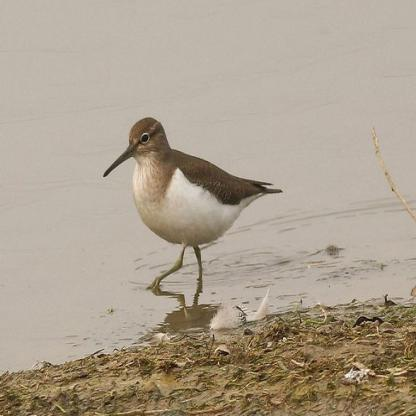Burung: (98, 118, 286, 300)
